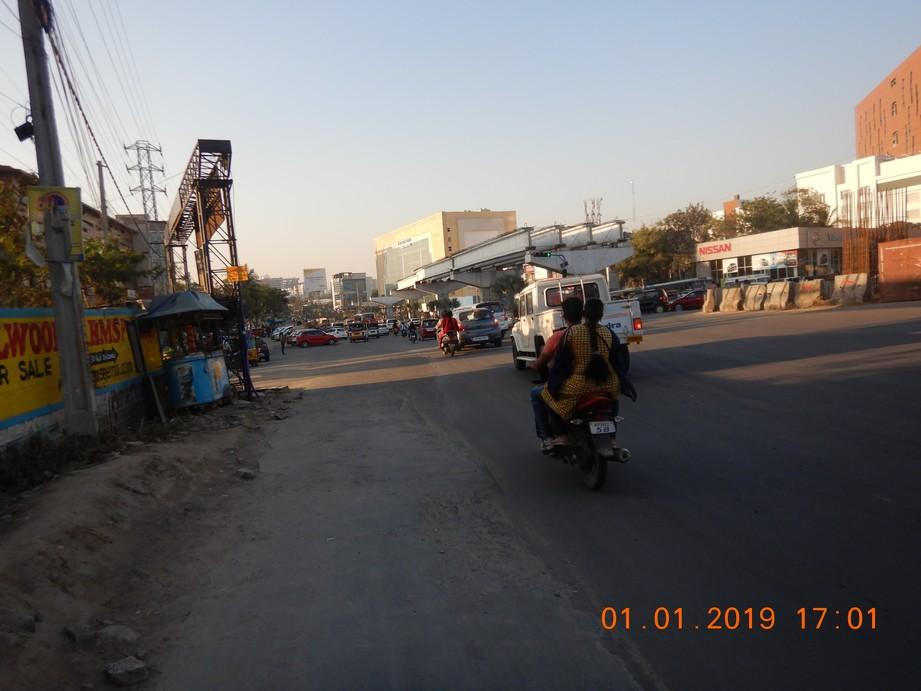plate: (588, 419, 618, 435)
